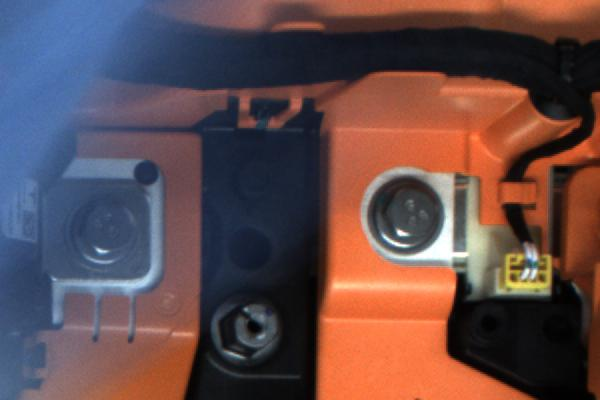nut_b: (363, 174, 447, 261)
